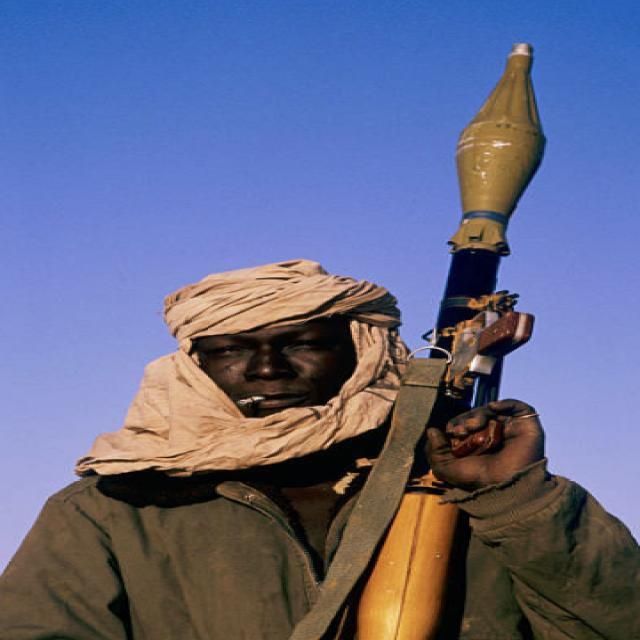bazooka: (347, 31, 568, 640)
